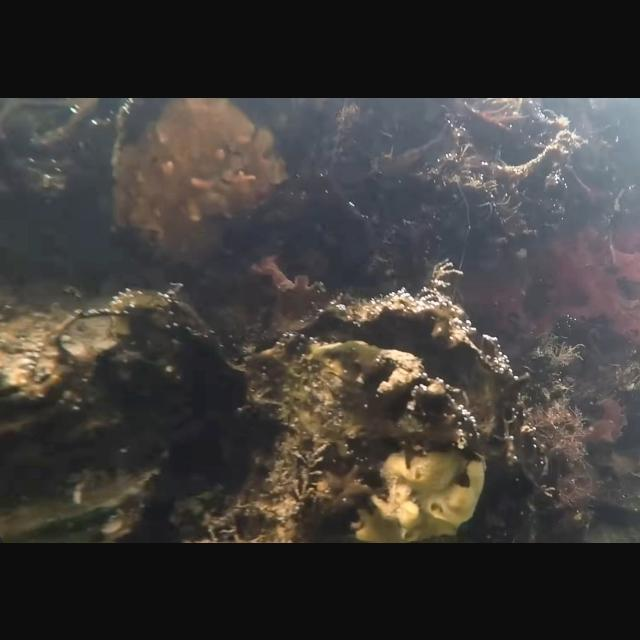Oyster-Closed: (110, 97, 288, 261)
Oyster-Open: (246, 290, 500, 542), (0, 285, 164, 435), (0, 466, 158, 542)
